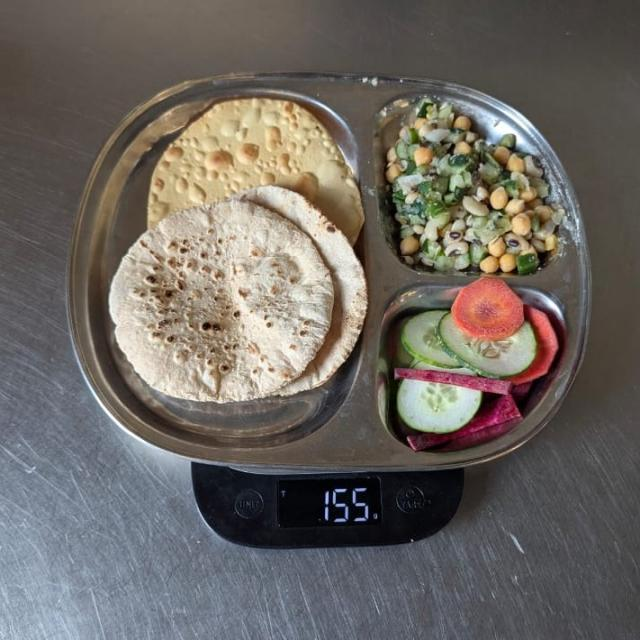Chapati: (104, 190, 370, 404)
Papad: (148, 101, 370, 192)
Salad: (386, 279, 567, 453), (386, 92, 557, 276)
